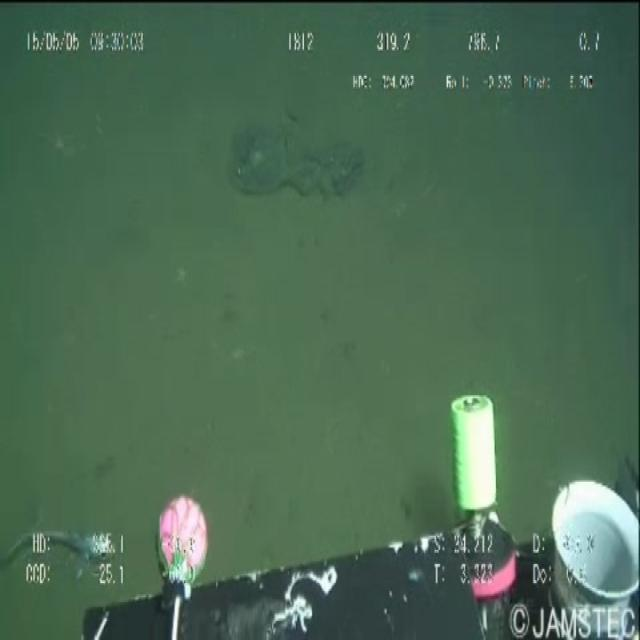Rope: (226, 107, 366, 213)
